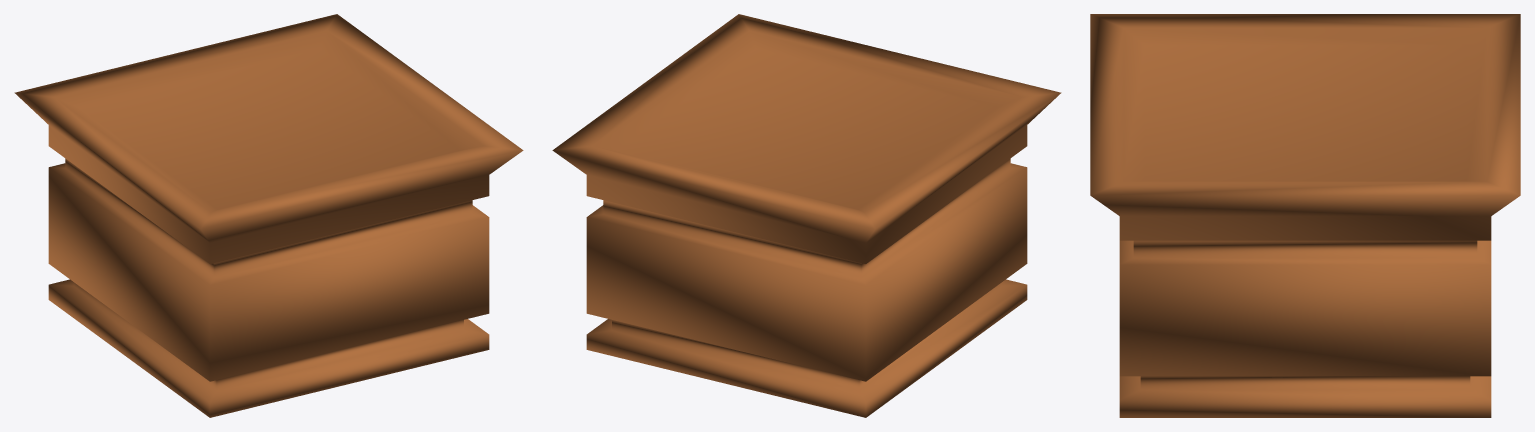
3 renders of one model, left to right at view 1: azimuth 30°, elevation 25°; view 2: azimuth 150°, elevation 25°; view 3: azimuth 270°, elevation 25°, orthographic. The views are drawn at different scales.
Parts seen in each view (by area): view 1: Cube.012; view 2: Cube.012; view 3: Cube.012.
Part boxes in pixels (left/top/right/bottom): Cube.012: left=14, top=14, right=523, bottom=417; Cube.012: left=552, top=14, right=1061, bottom=417; Cube.012: left=1090, top=14, right=1520, bottom=417.
Size of the model in its own units: 5.2 by 3.13 by 5.2.
